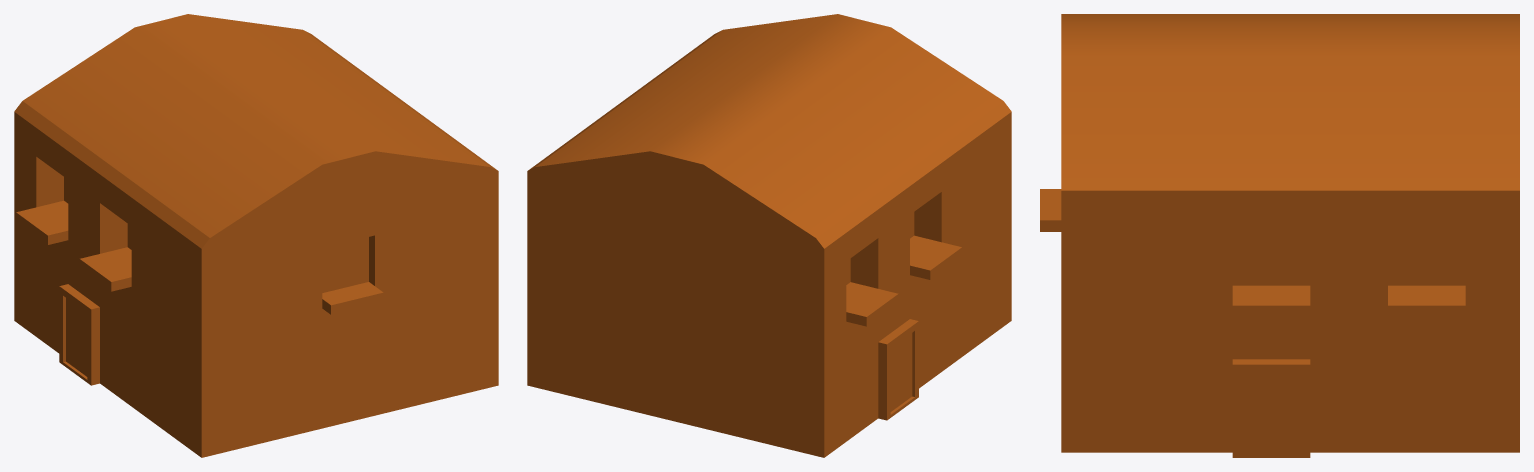
Rendered from shitty_suburb_Houe4.FBX.
3 views of the same model, side by side, from view 1: azimuth 30°, elevation 25°; view 2: azimuth 150°, elevation 25°; view 3: azimuth 270°, elevation 25° (orthographic). The views are drawn at different scales.
Visible parts, largest first — view 1: Box004; view 2: Box004; view 3: Box004.
Part boxes in pixels (x1,y1,x2,y2): Box004: [14, 14, 498, 457]; Box004: [527, 14, 1011, 457]; Box004: [1040, 14, 1519, 457].
Bounding box in the file's own units: 4.43 × 3.33 × 4.48.
